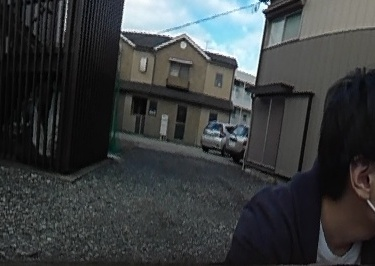person: (230, 70, 375, 266)
